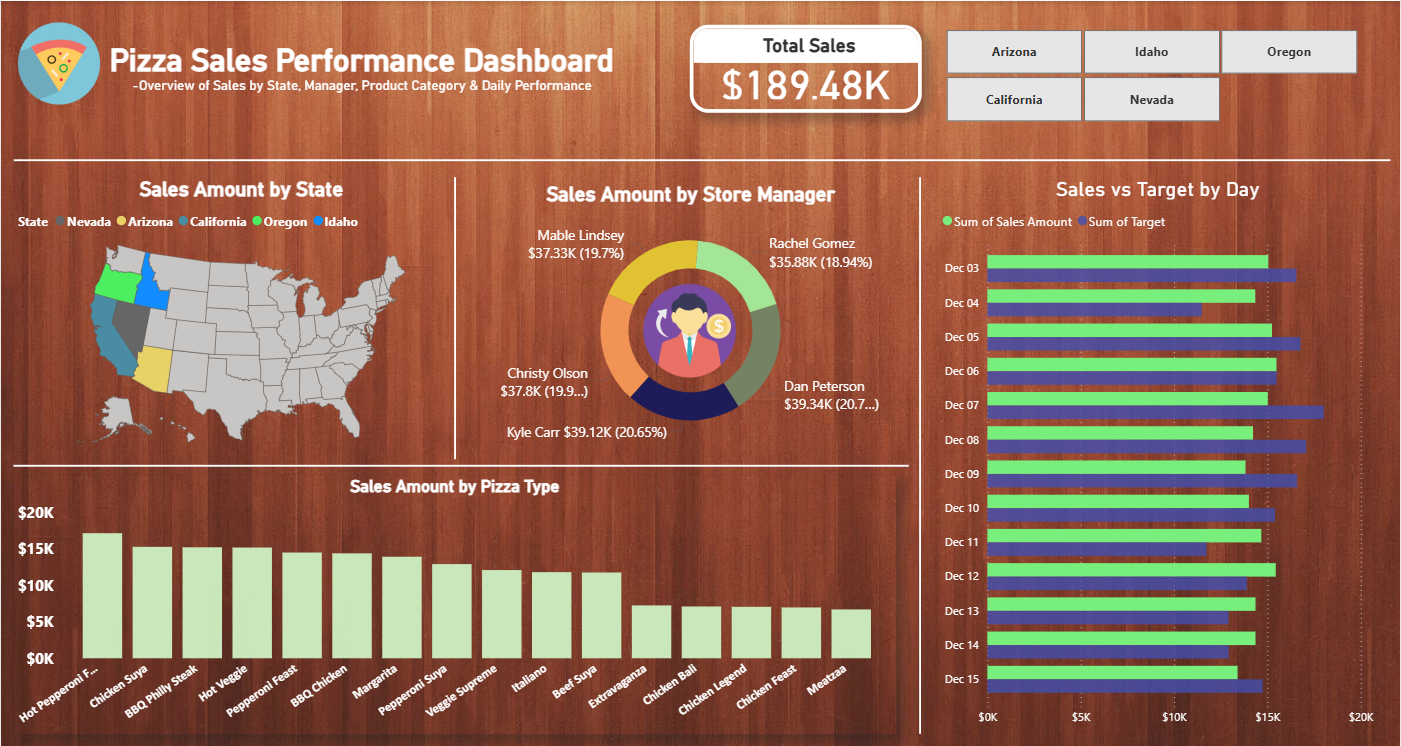

The page's visual inventory and layout, read from the dashboard file:
{"tool":"powerbi","page":{"name":"Pizza Sales Performance Overview","canvas":[1500,800],"ordinal":0},"visuals":[{"type":"slicer","fields":{"Values":["Branch Data.Branch"]},"box":[987.4,23.7,490.3,111.6],"z":0},{"type":"image","box":[13.5,13.5,98.1,106.5],"z":1000},{"type":"textbox","box":[79.5,38.9,615.4,81.2],"z":2000},{"type":"shape","box":[14,106.7,1477,127],"z":3000},{"type":"card","title":"Total Sales","fields":{"Values":["Sales.Total Sales"]},"box":[738.9,25.4,248.5,94.7],"z":4000},{"type":"donutChart","title":"Sales Amount by Store Manager","fields":{"Category":["Branch Data.Manager"],"Y":["Sales.Total Sales"]},"box":[518.3,195,441.7,291.7],"z":5000},{"type":"image","box":[184,297.8,1109.6,112.4],"z":6000},{"type":"clusteredColumnChart","title":"Sales Amount by Pizza Type","fields":{"Y":["Sales.Total Sales"],"Category":["Sales.Pizza Type"]},"box":[13.3,510,946.7,276.7],"z":7000},{"type":"shapeMap","title":"Sales Amount by State","fields":{"Category":["Branch Data.State"],"Series":["Branch Data.State"],"Value":["Sales.Total Sales"]},"box":[13.5,189.4,488.6,301],"z":8000},{"type":"shape","box":[336.5,189.4,301,302.6],"z":9000},{"type":"shape","box":[13.5,377,960.3,243.5],"z":10000},{"type":"shape","box":[835.2,189.4,301,596.8],"z":11000},{"type":"clusteredBarChart","title":"Sales vs Target by Day","fields":{"Y":["Sum(Sales.Sales Amount)","Sum(Daily Target.Target)"],"Category":["Daily Target.Month_Date"]},"box":[1004.2,189.6,473.3,596.9],"z":12000}]}

Visuals, with their boxes in screenshot pixels (x1, y1, x2, y2), scaled from the page's 1500x800 canvas onto the 1401x746 screenshot:
slicer - Branch Data.Branch: left=922, top=22, right=1380, bottom=126
image: left=13, top=13, right=104, bottom=112
textbox: left=74, top=36, right=649, bottom=112
shape: left=13, top=99, right=1393, bottom=218
"Total Sales" card: left=690, top=24, right=922, bottom=112
"Sales Amount by Store Manager" donutChart: left=484, top=182, right=897, bottom=454
image: left=172, top=278, right=1208, bottom=383
"Sales Amount by Pizza Type" clusteredColumnChart: left=12, top=476, right=897, bottom=734
"Sales Amount by State" shapeMap: left=13, top=177, right=469, bottom=457
shape: left=314, top=177, right=595, bottom=459
shape: left=13, top=352, right=910, bottom=579
shape: left=780, top=177, right=1061, bottom=733
"Sales vs Target by Day" clusteredBarChart: left=938, top=177, right=1380, bottom=733
